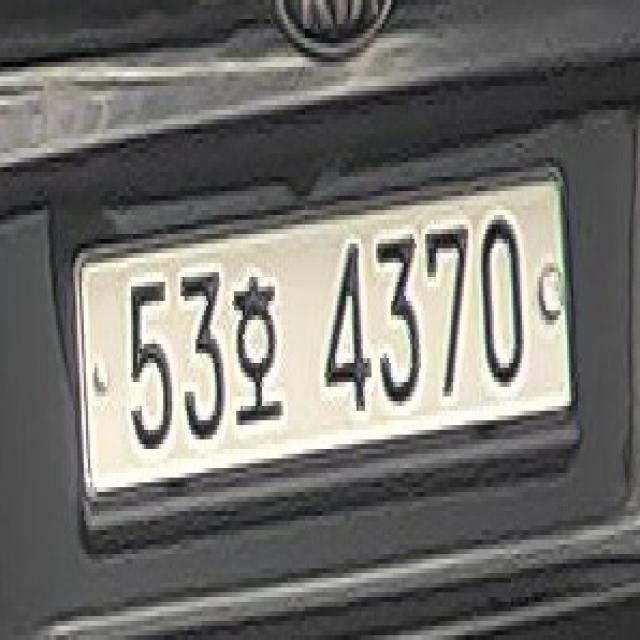0: (475, 210, 537, 420)
3: (185, 244, 223, 444), (374, 229, 416, 406)
4: (322, 234, 376, 420)
5: (118, 272, 178, 449)
7: (423, 210, 477, 392)
ho: (225, 253, 288, 440)
license_plate: (67, 153, 576, 544)
